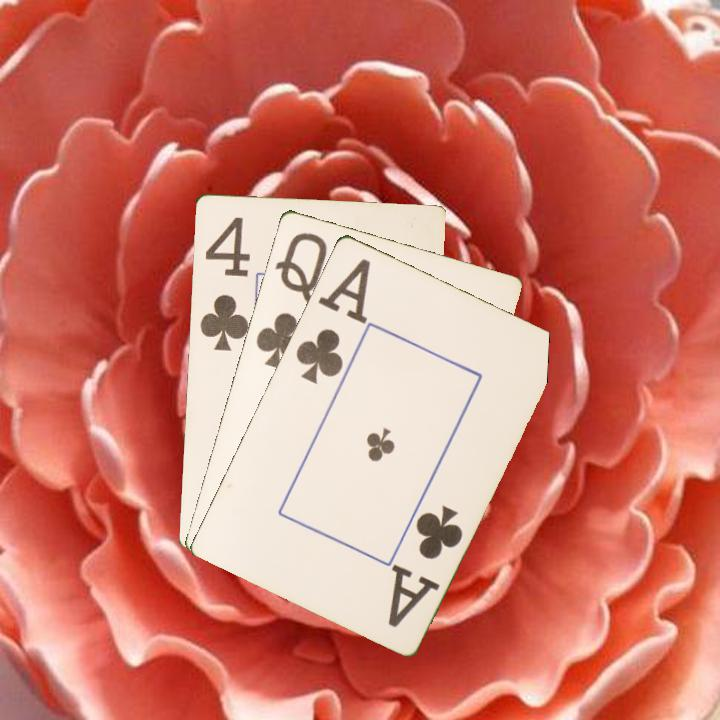4c: (196, 212, 253, 353)
Ac: (292, 254, 374, 387), (384, 500, 466, 630)
Qc: (252, 228, 330, 371)
